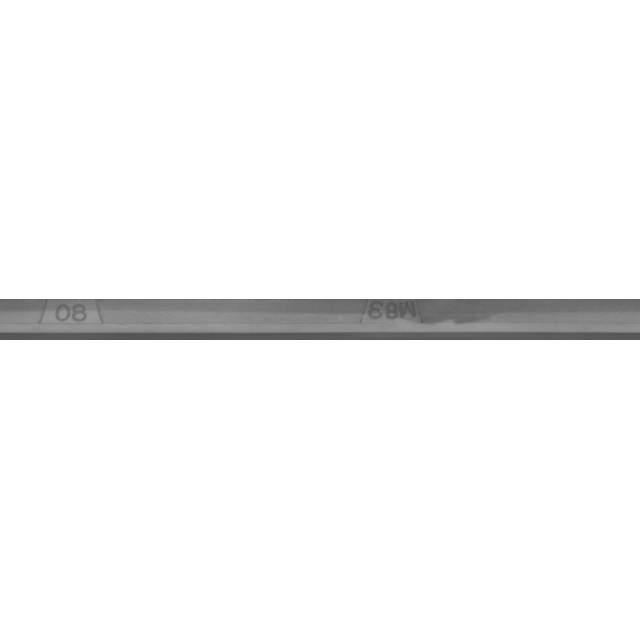mohao: (285, 270, 485, 370)
xuehao: (0, 270, 181, 370)
